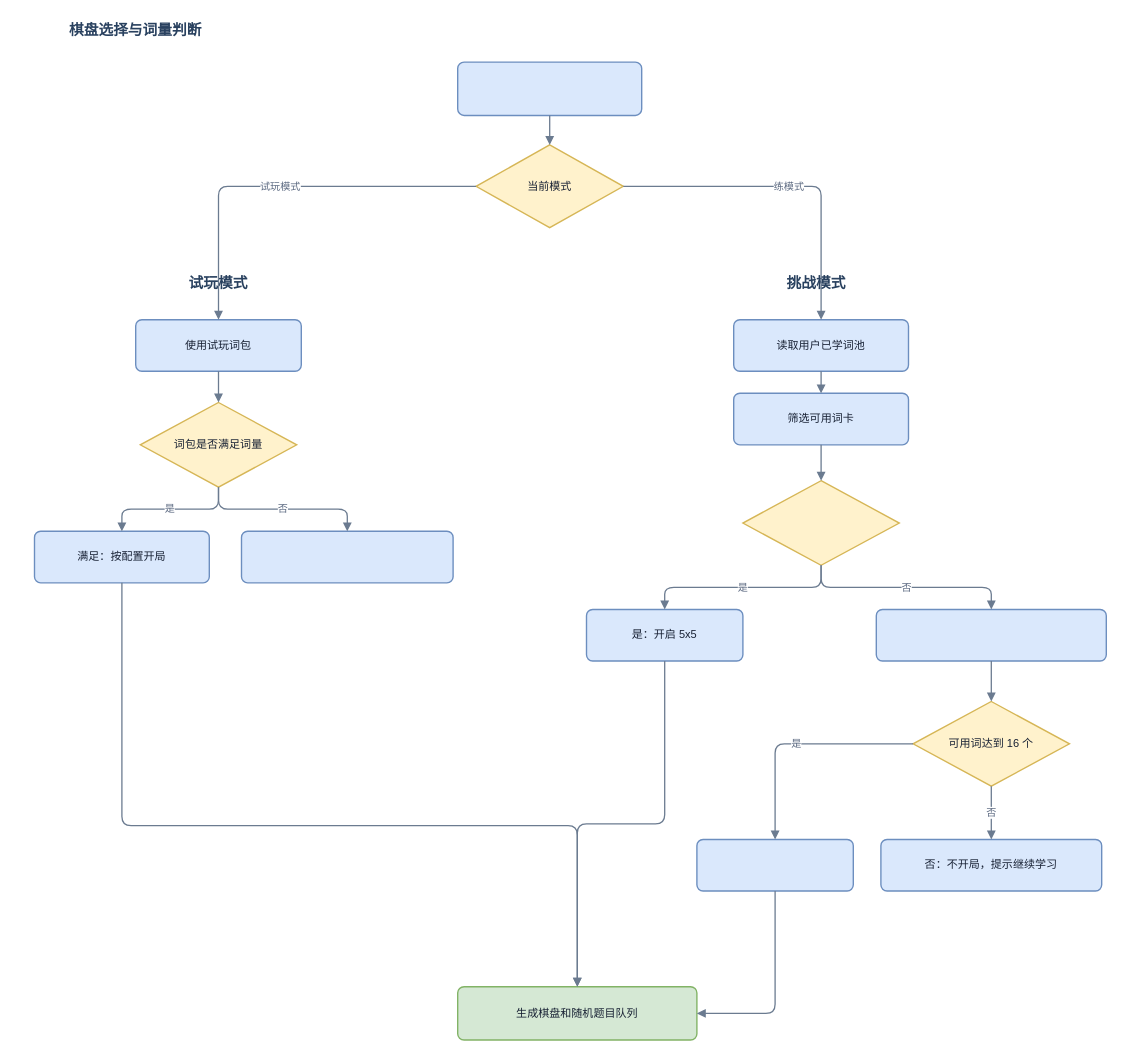
This 1122x1056 diagram has some shape labels left out. The shapes that lost their labels are listed below. From the top down, each one's centre as x and y in pixels, then its label:
pixel 549 88: 用户点击开始 Bingo
pixel 821 523: 可用词达到 24 个
pixel 346 556: 不满足：降级或提示不可玩
pixel 991 634: 否：继续判断 16 个词门槛
pixel 775 864: 是：开启 4x4
